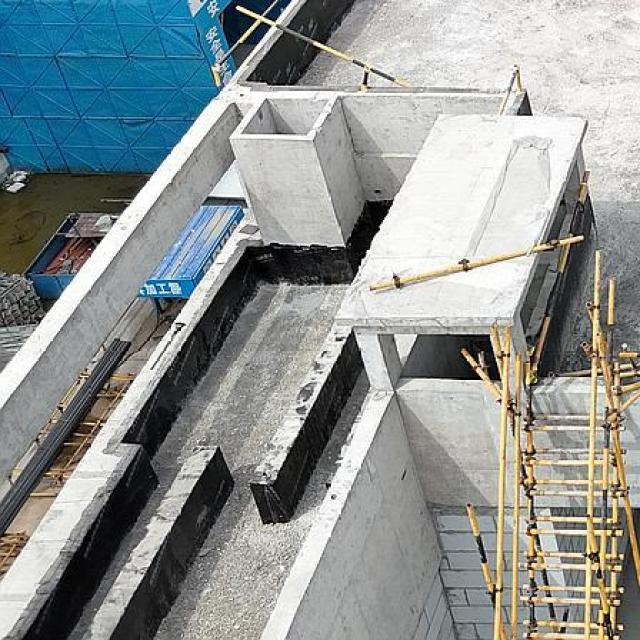edge_guardrail: (209, 0, 412, 90), (369, 234, 584, 292), (532, 167, 592, 372), (497, 63, 522, 116)
